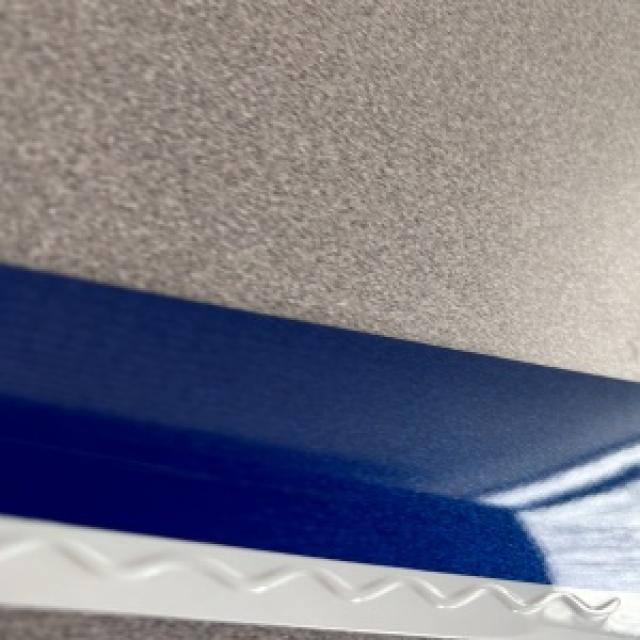healthy: (0, 262, 638, 582), (0, 606, 384, 638)
